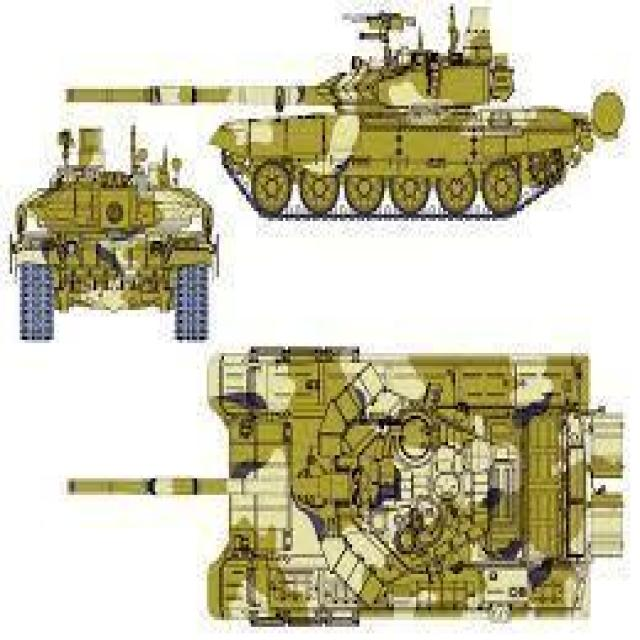Tanks: (199, 335, 608, 625), (168, 13, 626, 238), (11, 144, 228, 348)
